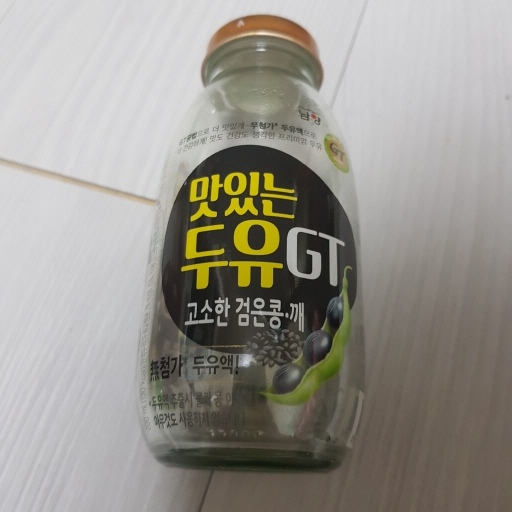Glass_4: (132, 13, 367, 471)
